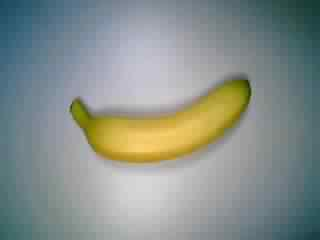banana: (64, 74, 253, 164)
